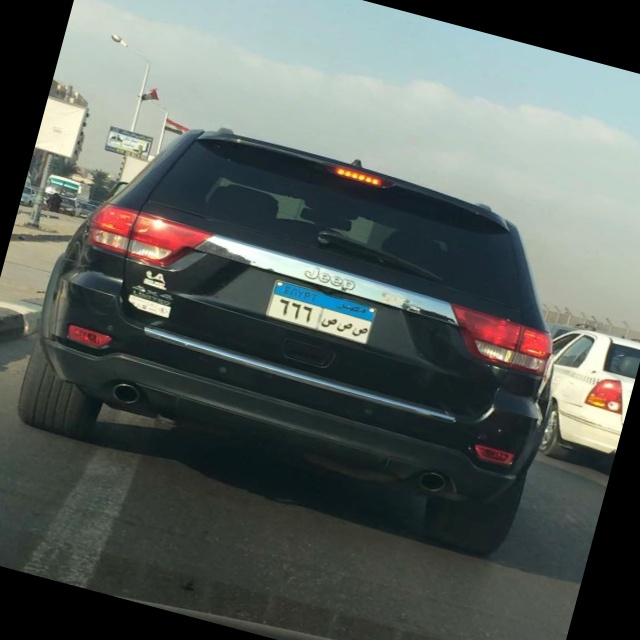License Plate: (263, 277, 380, 346)
